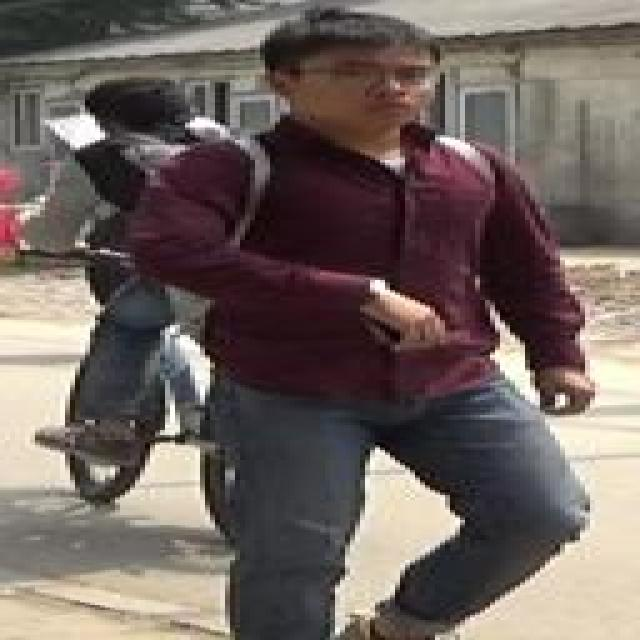adult: (160, 15, 600, 640), (22, 86, 306, 448)
